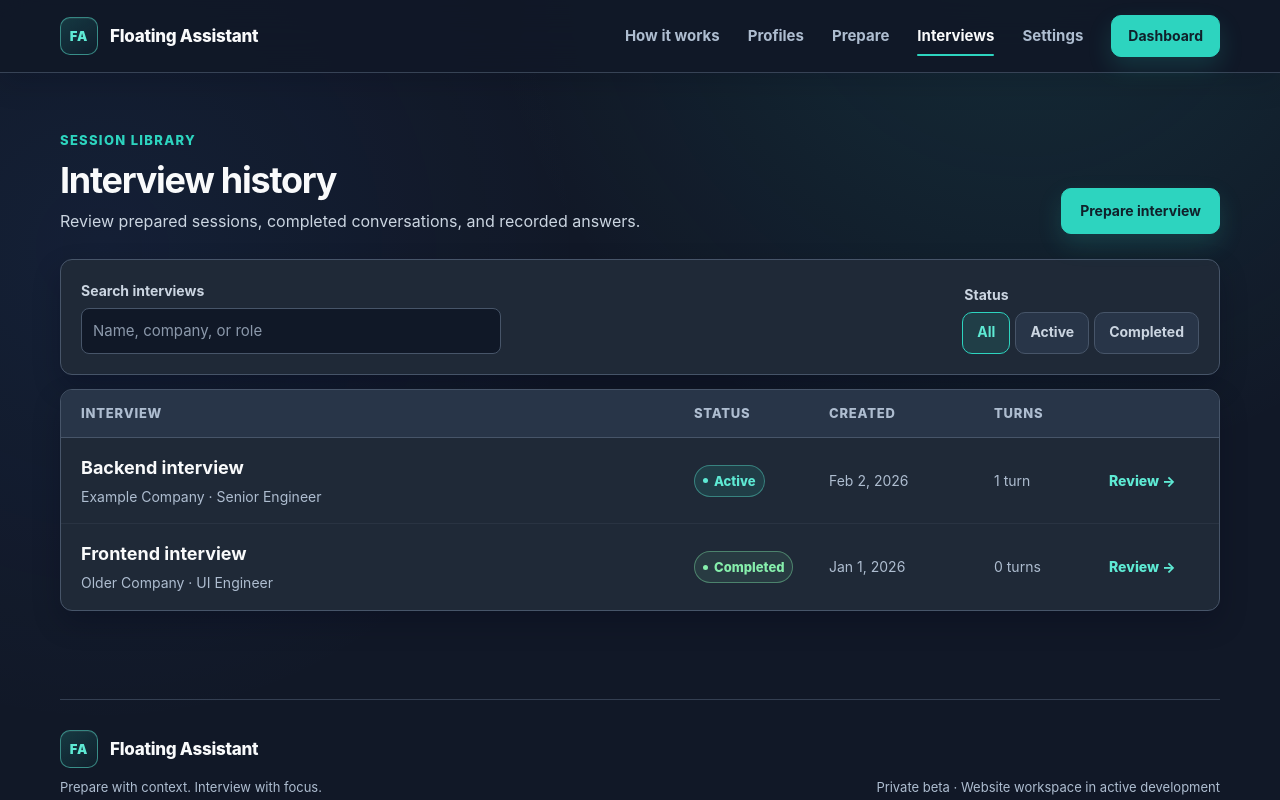
website routing and authentication › lists interviews newest first and supports search and status filters
Check: the element that starts with "Backend interview" is shown, box [81,457,244,478]
Check: the element that starts with "Frontend interview" is shown, box [81,543,247,564]
Type "Older Company" into the search field labelled "Search interviews" at x=291, y=331, box [81,308,501,354]
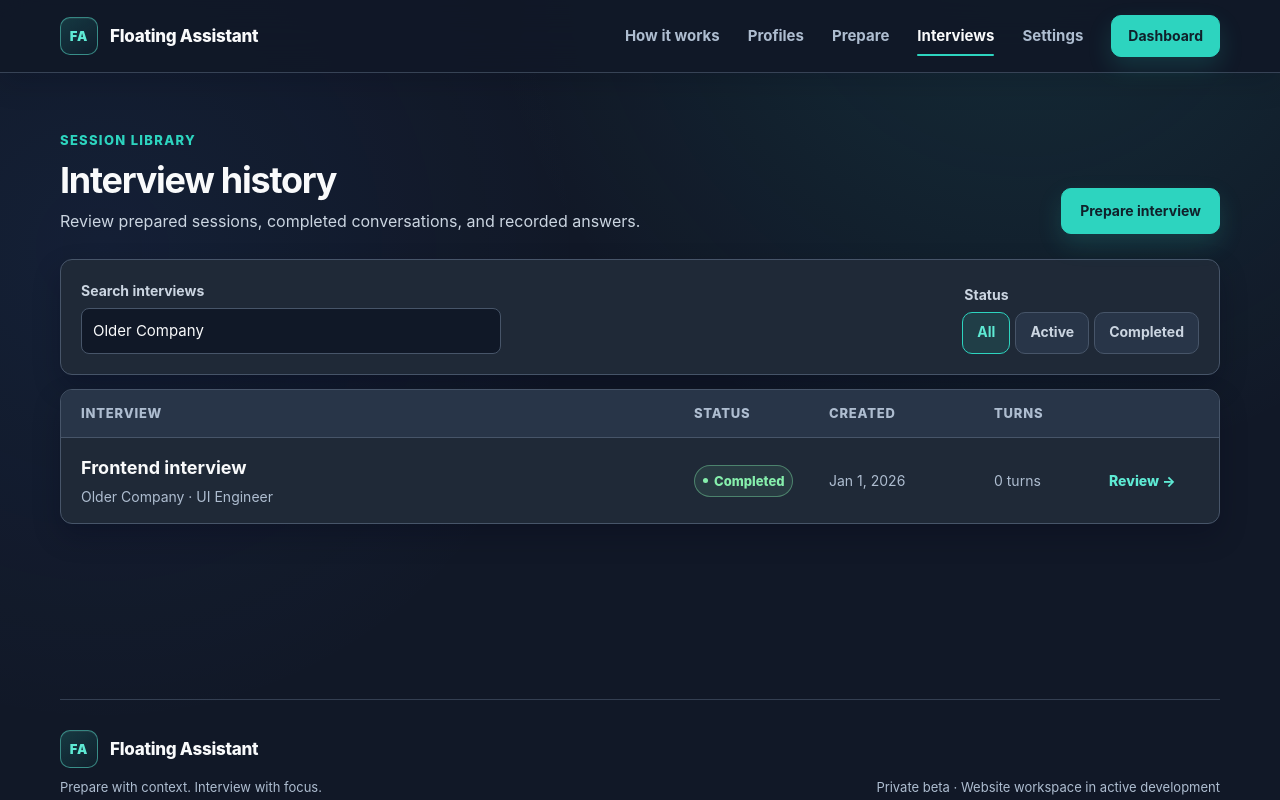
Check: the link "Frontend interview" is shown, box [81,457,247,478]
Check: the link "Backend interview" is gone
Clear the search field labelled "Search interviews" at x=291, y=331, box [81,308,501,354]
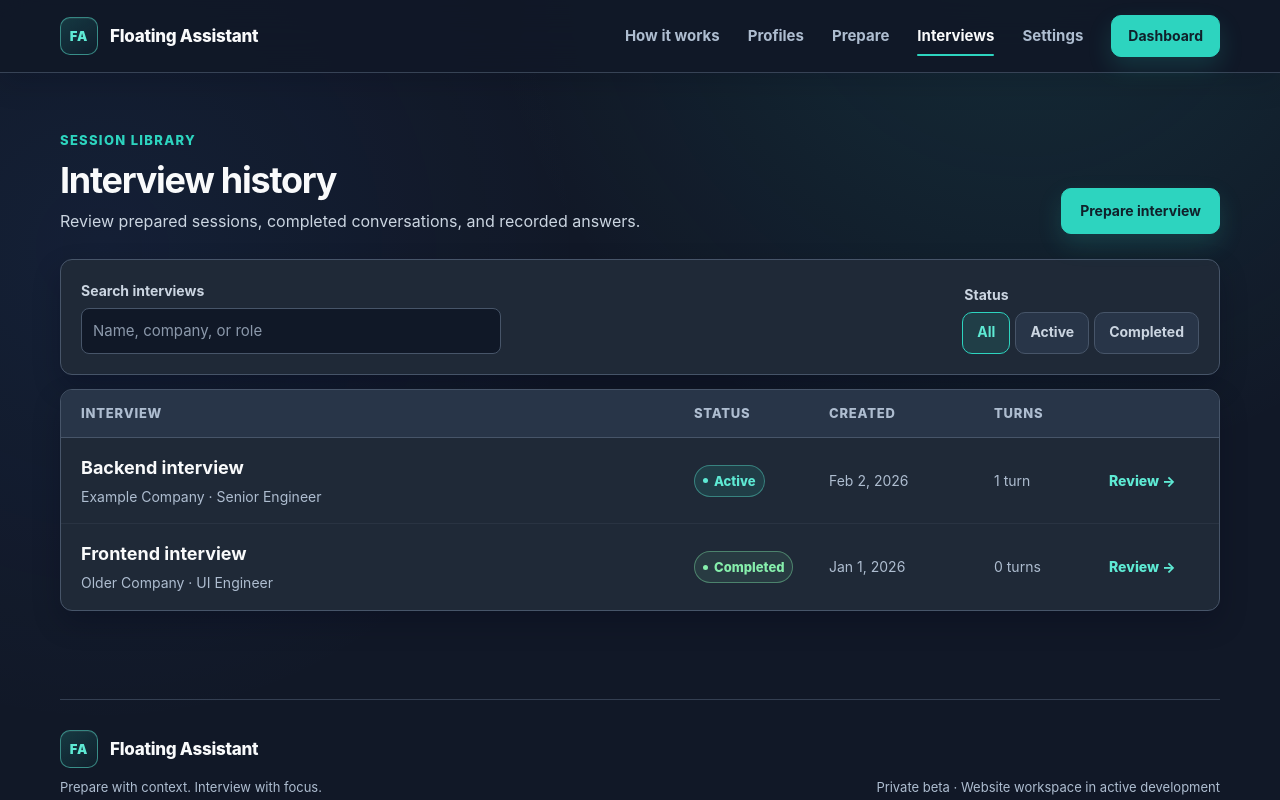
Click the button "Completed" at x=1147, y=333, box [1094,312,1199,354]
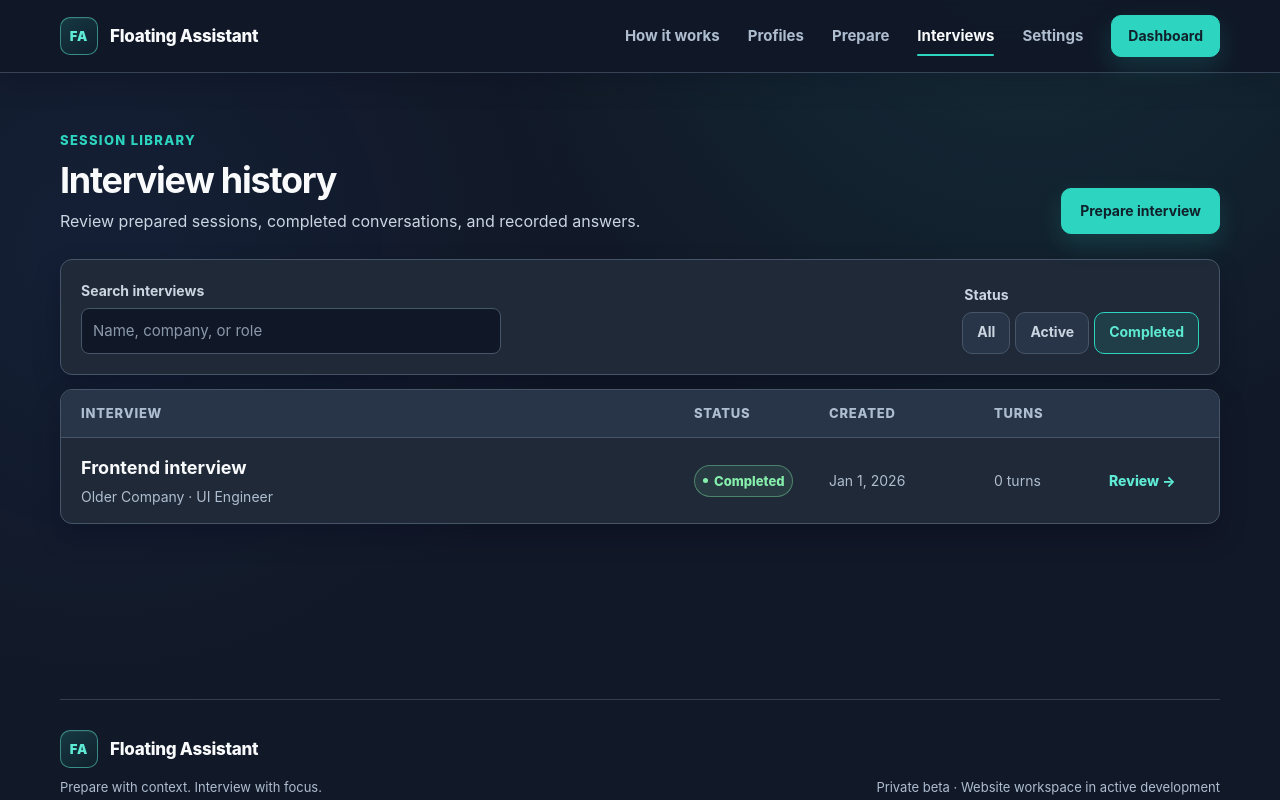
Check: the link "Frontend interview" is shown, box [81,457,247,478]
Check: the link "Backend interview" is gone
